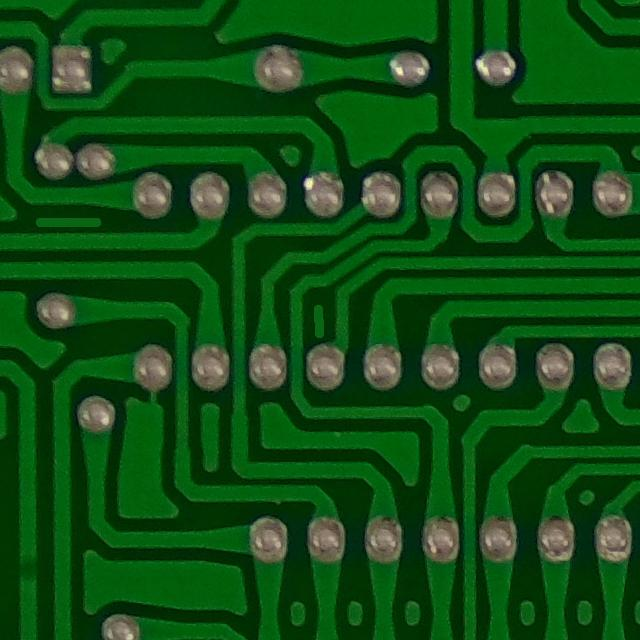spurious_copper: (300, 294, 341, 346)
